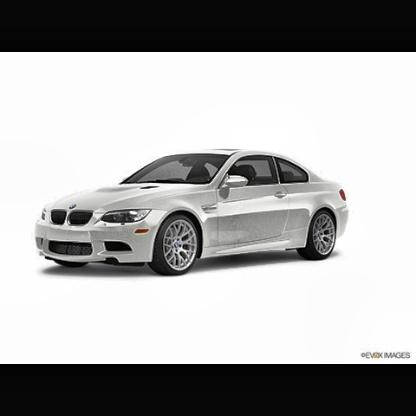BMW M3 Coupe 2012: (34, 149, 350, 279)
